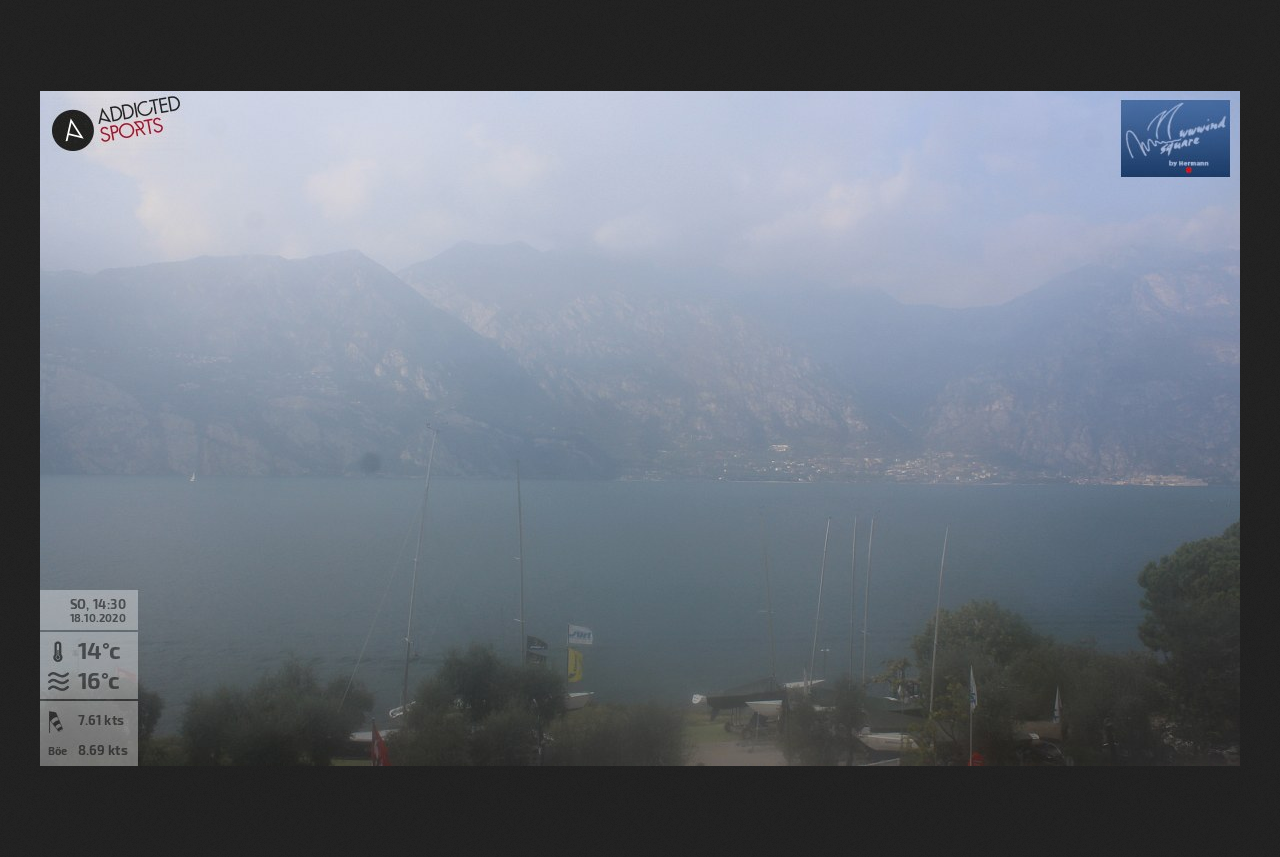yes: (525, 631, 552, 668), (564, 618, 595, 647), (565, 645, 585, 687)
